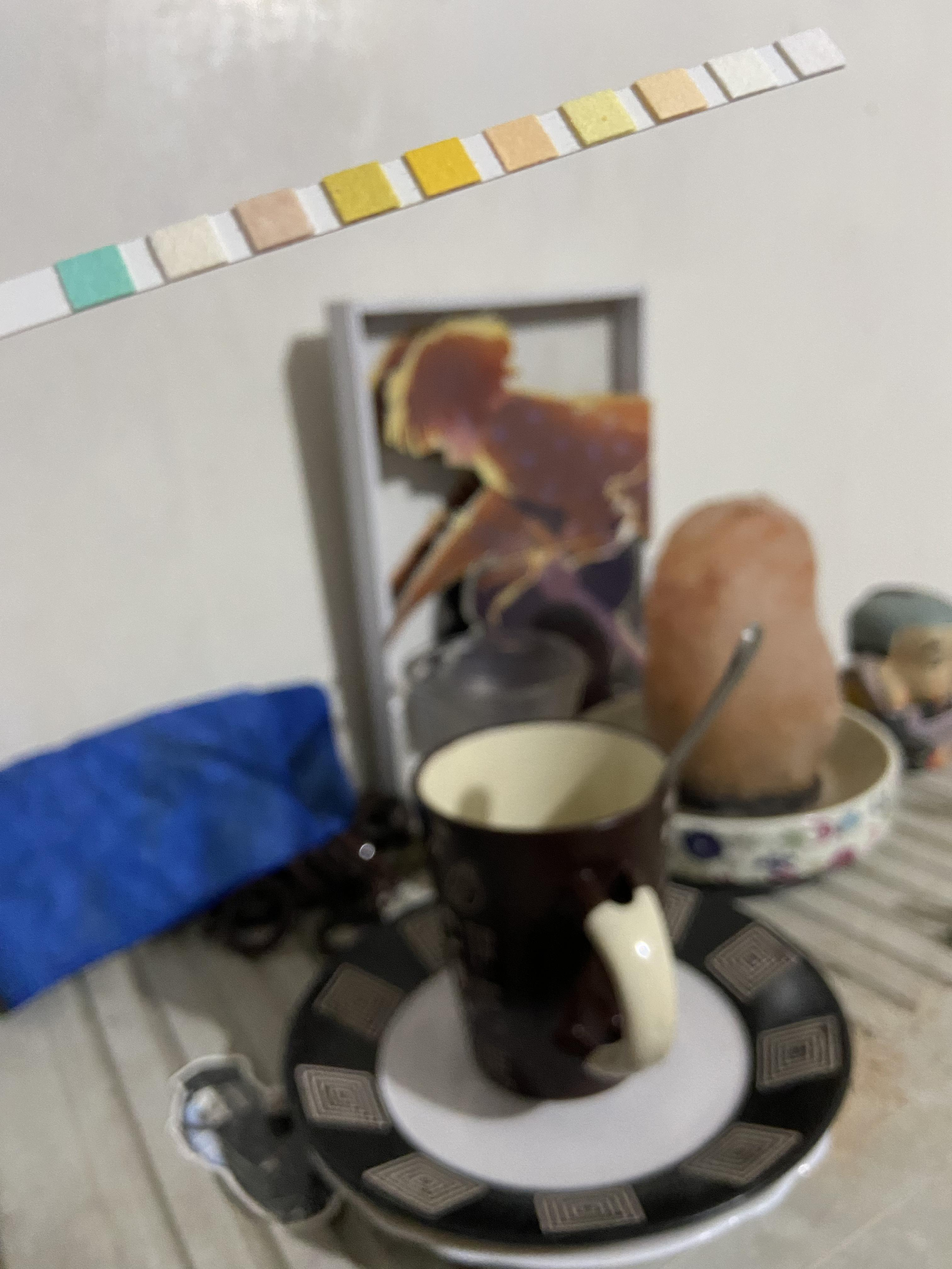Bilirubin: (170, 227, 211, 269)
Blood: (420, 150, 465, 187)
Glucose: (76, 258, 119, 296)
Ketone: (247, 202, 298, 238)
Leukocytes: (795, 35, 828, 68)
Nitrite: (723, 55, 764, 89)
Protein: (577, 99, 622, 137)
SpGravity: (340, 172, 386, 213)
Urobilinogen: (653, 78, 692, 112)
pH: (498, 125, 544, 163)
strip: (1, 28, 846, 341)
